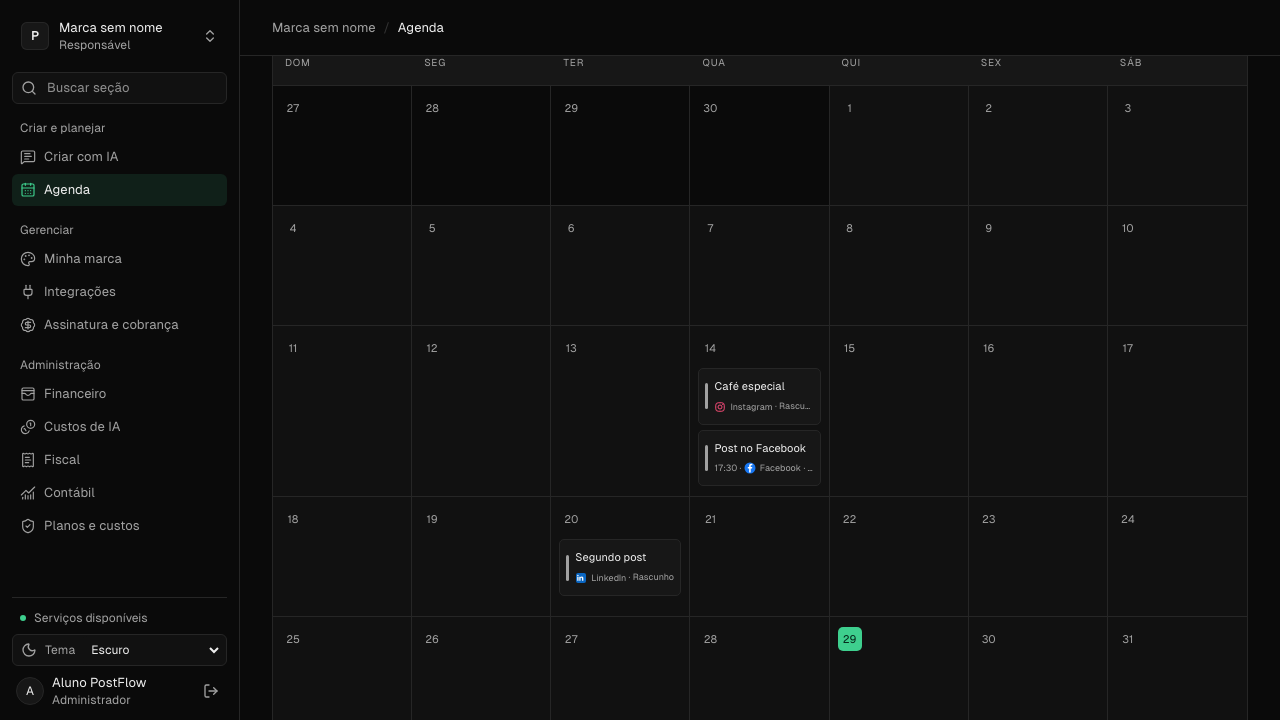
Test: CalendarPage › agrupa posts do mesmo dia e navega entre datas com conteúdo
(page scrolled)
Click the button "Café especial Instagram · Rascunho" at (759,396), box [698,368,820,425]
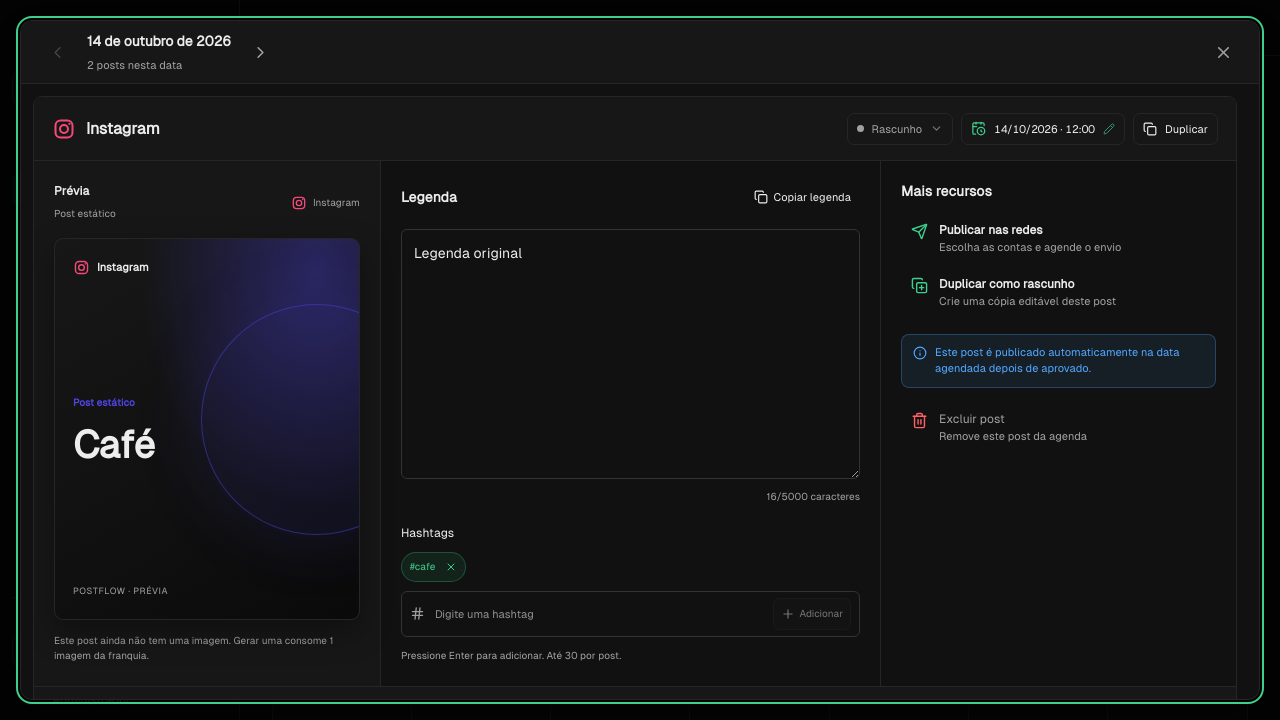
Check: the heading "Instagram" is shown, box [86,116,160,140]
Check: the text "2 posts nesta data" is shown, box [87,59,182,71]
Click the button named "Próximo dia" at (261,52), box [241,32,281,72]
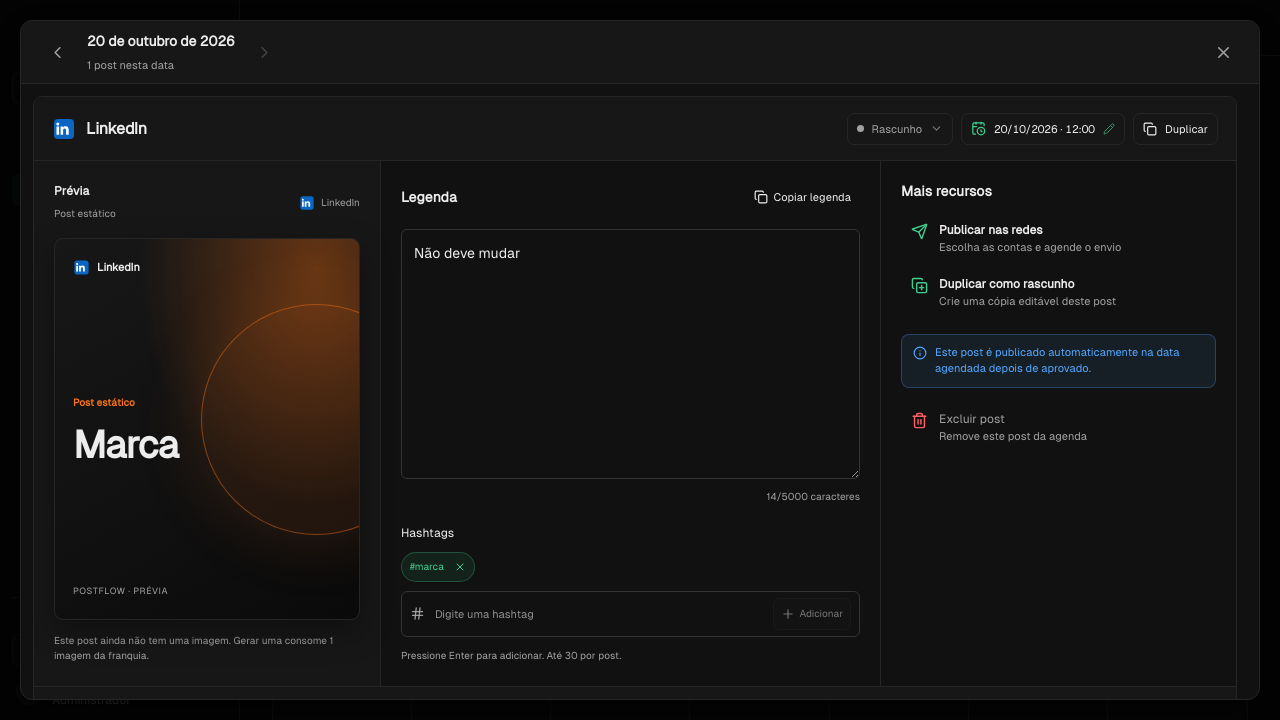
Check: the heading "LinkedIn" is shown, box [86,116,147,140]
Click the button named "Dia anterior" at (57,52), box [37,32,77,72]
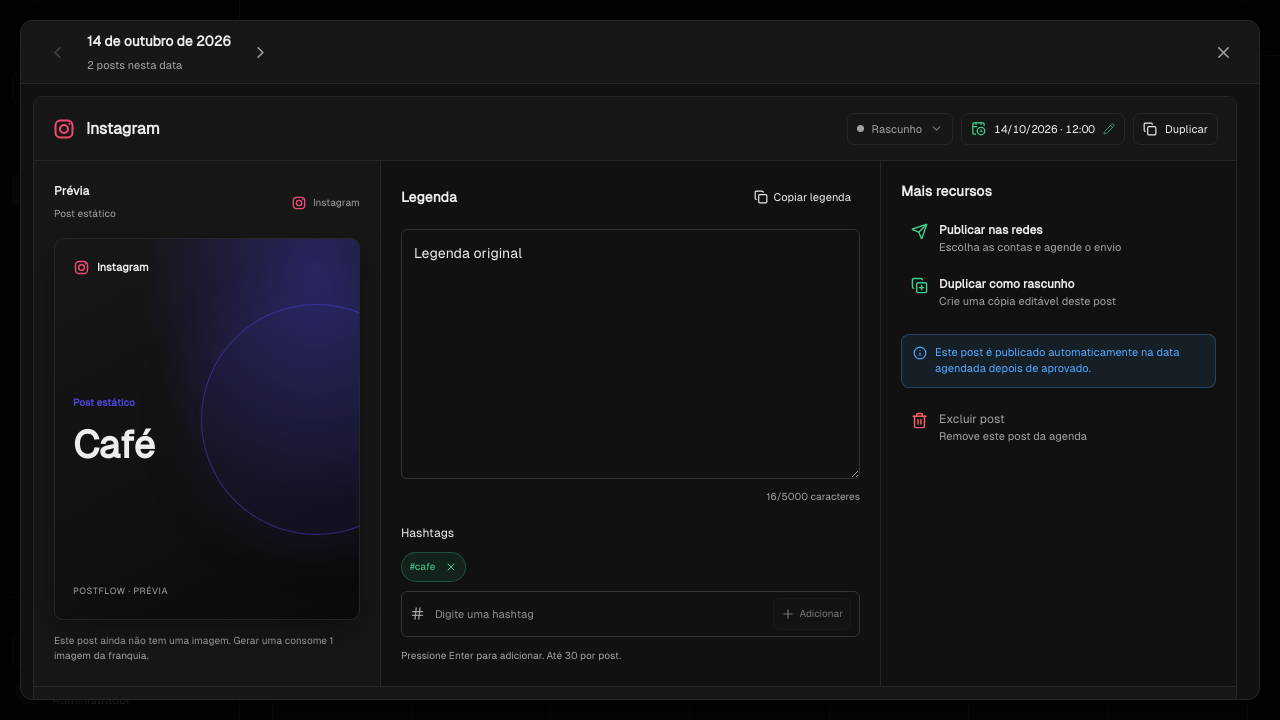
Check: the heading "Instagram" is shown, box [86,116,160,140]
